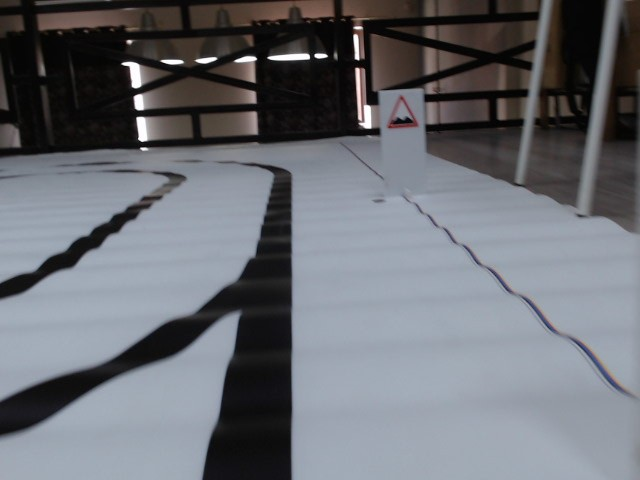Nerov: (386, 94, 422, 131)
